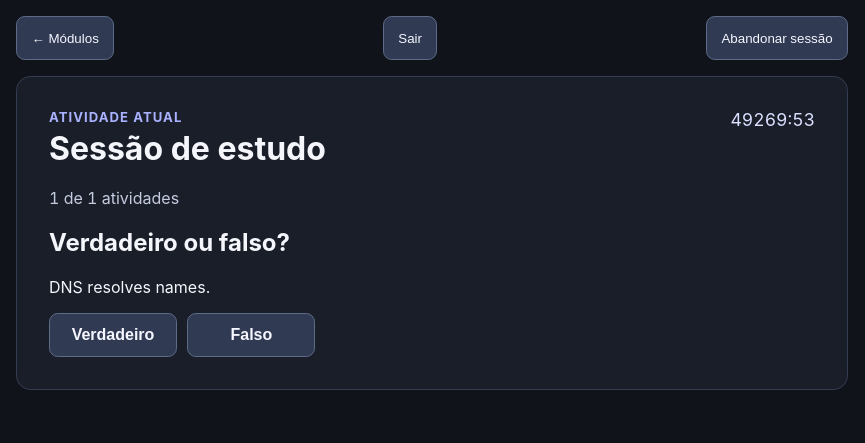
it: student session page › recovers a 409 by reloading server state without showing incorrect feedback
Expected: the text "DNS resolves names." is shown, [49,277,210,297]
Click the button "Verdadeiro" at (113, 335), box [49,313,177,357]
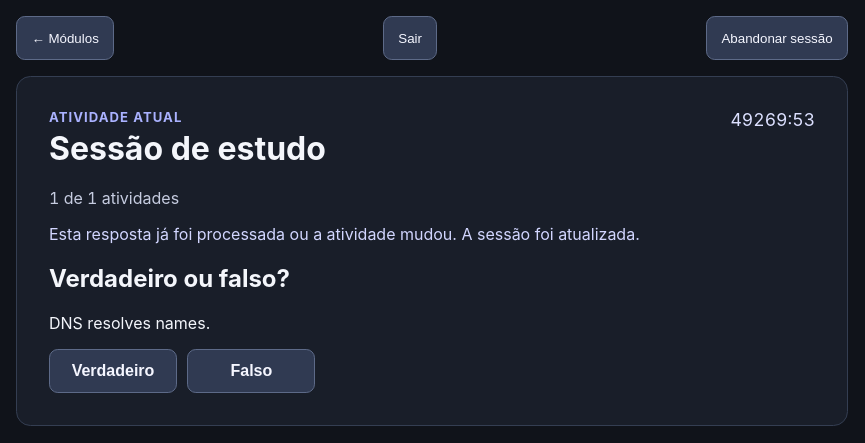
Expected: the message shows "atualizada", [49,224,640,244]
